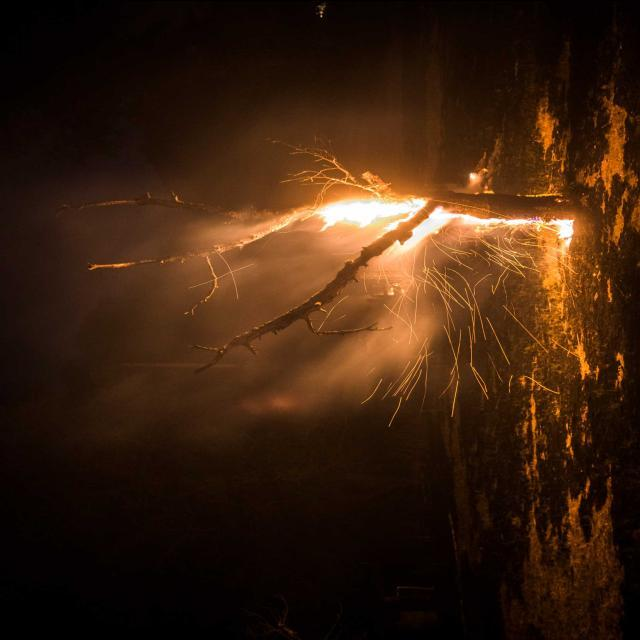Fire: (314, 184, 578, 262)
